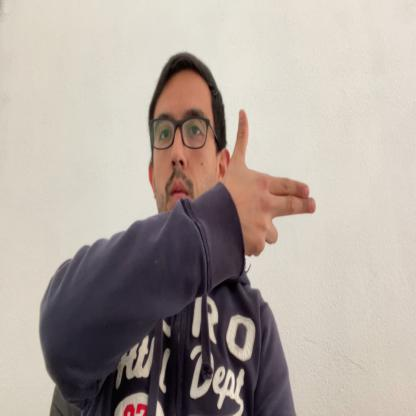H: (229, 106, 316, 257)
